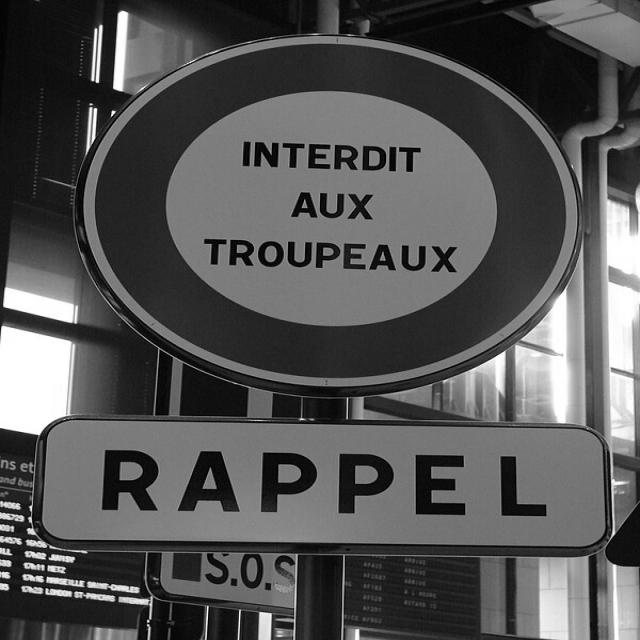forbidden: (75, 31, 585, 397)
